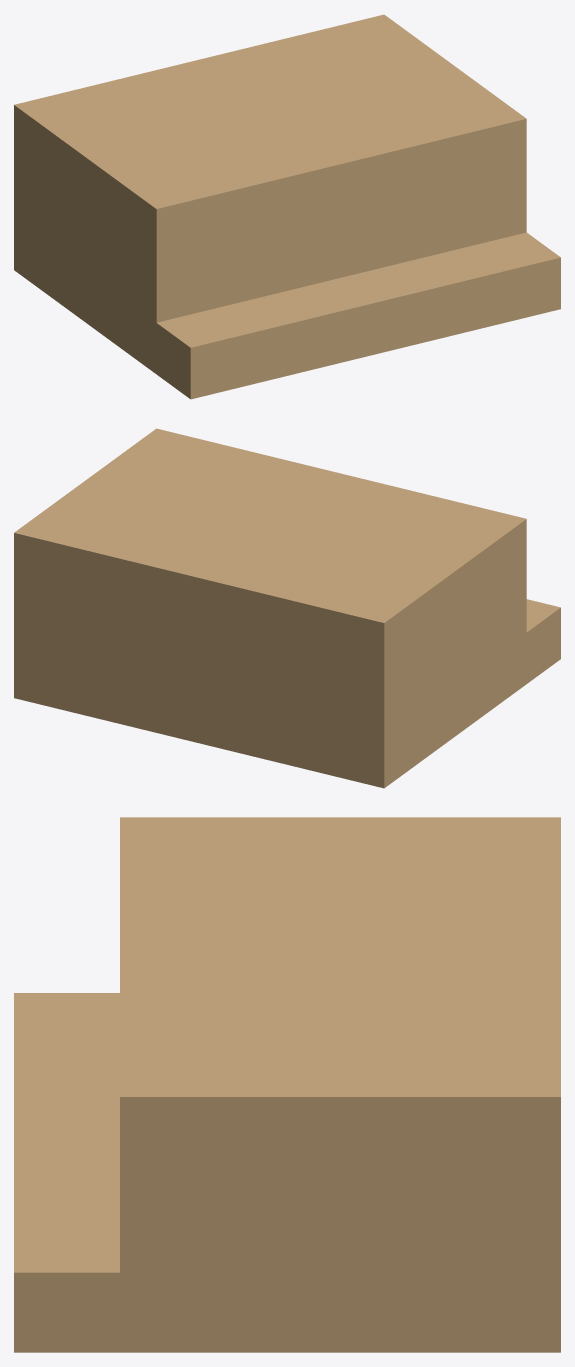
Rendered from prop-mortise-gauge-fence-mg1.fbx.
The picture shows the model from 3 angles, top to bottom: view 1: azimuth 30°, elevation 25°; view 2: azimuth 150°, elevation 25°; view 3: azimuth 270°, elevation 25°; orthographic projection. The views are drawn at different scales.
Visible parts, largest first — view 1: prop-mortise-gauge-fence-mg1; view 2: prop-mortise-gauge-fence-mg1; view 3: prop-mortise-gauge-fence-mg1.
Part boxes in pixels (x1,y1,x2,y2): prop-mortise-gauge-fence-mg1: (14, 14, 560, 399); prop-mortise-gauge-fence-mg1: (14, 428, 560, 788); prop-mortise-gauge-fence-mg1: (14, 817, 560, 1352).
Bounding box in the file's own units: 7.5 × 3.2 × 6.2.
